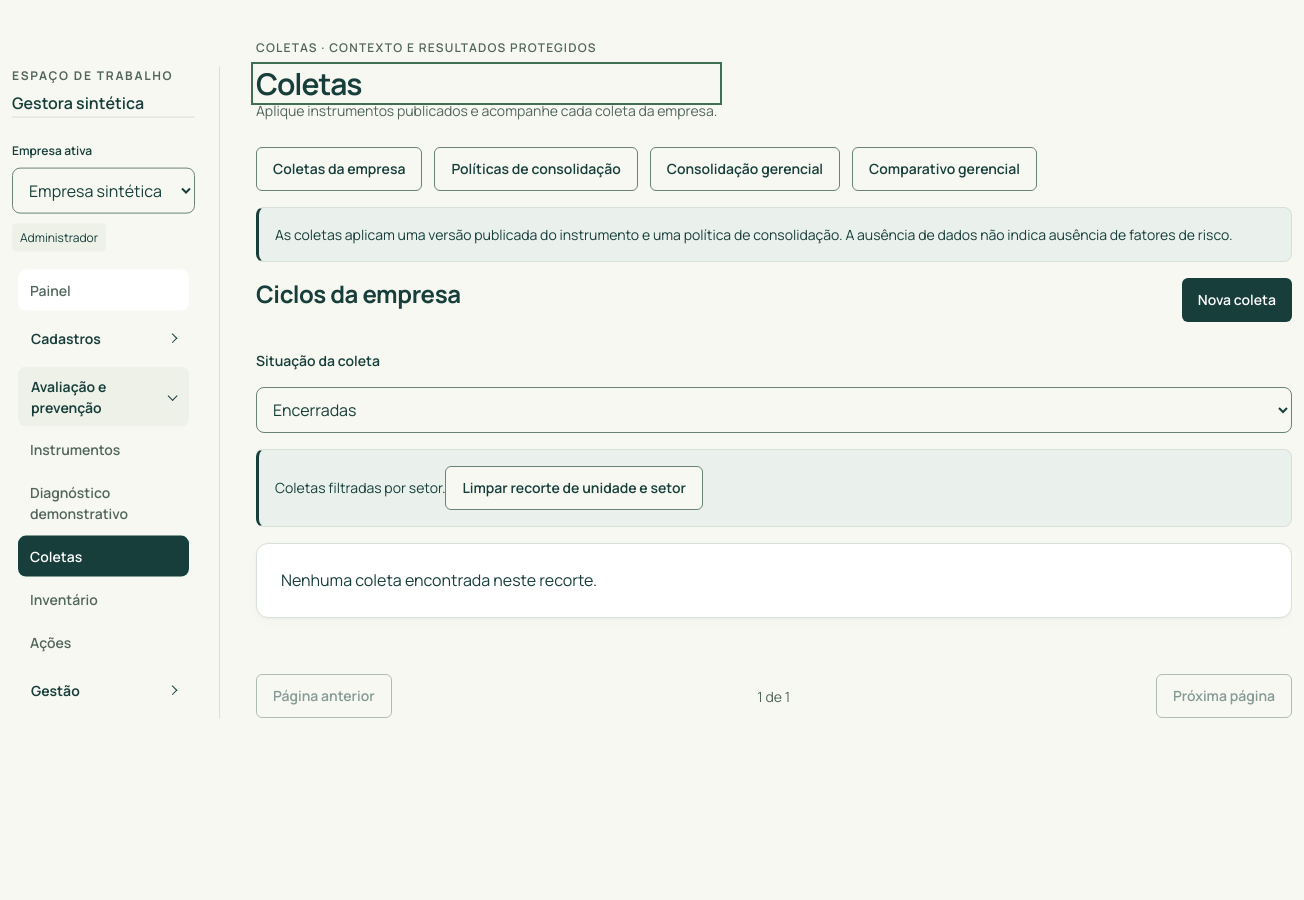
Test case: consulta o recorte recebido do painel e permite limpar unidade e setor
Expected: the text "Nenhuma coleta encontrada neste recorte." is shown, [256,543,1292,618]
Click the button "Limpar recorte de unidade e setor" at (574, 488), box [445,466,703,510]
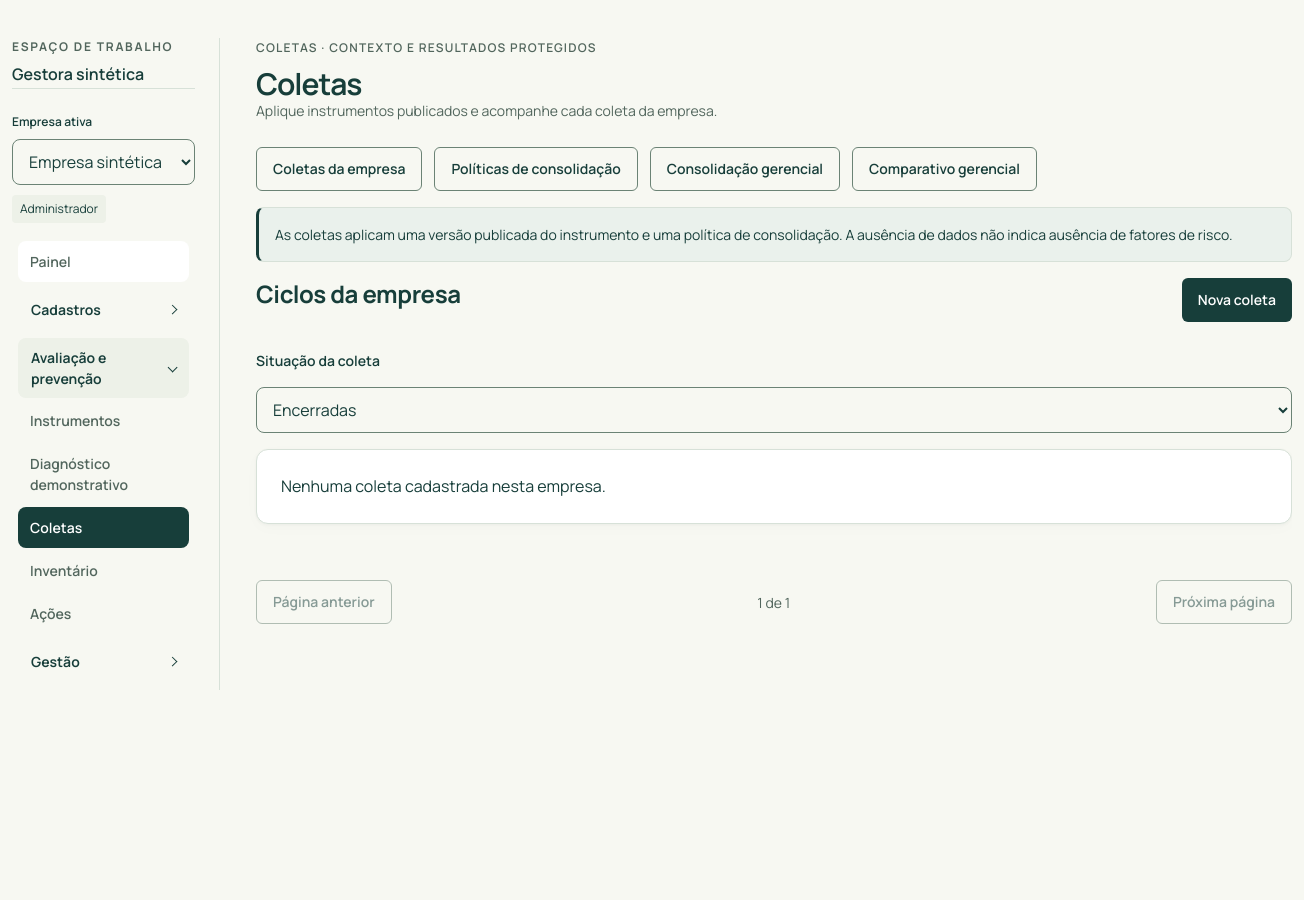
Expected: the text "Nenhuma coleta cadastrada nesta empresa." is shown, [256,449,1292,524]
